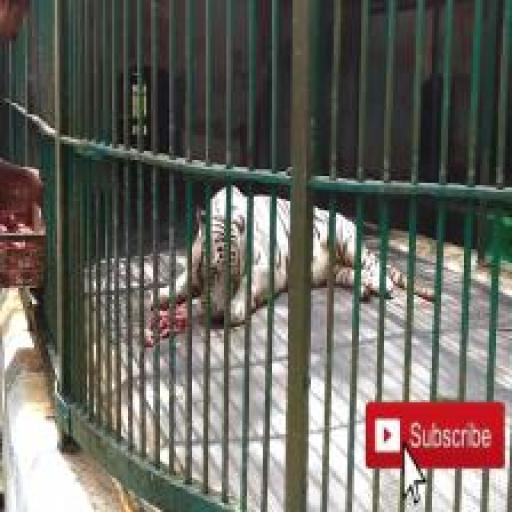Tiger: (144, 174, 441, 330)
